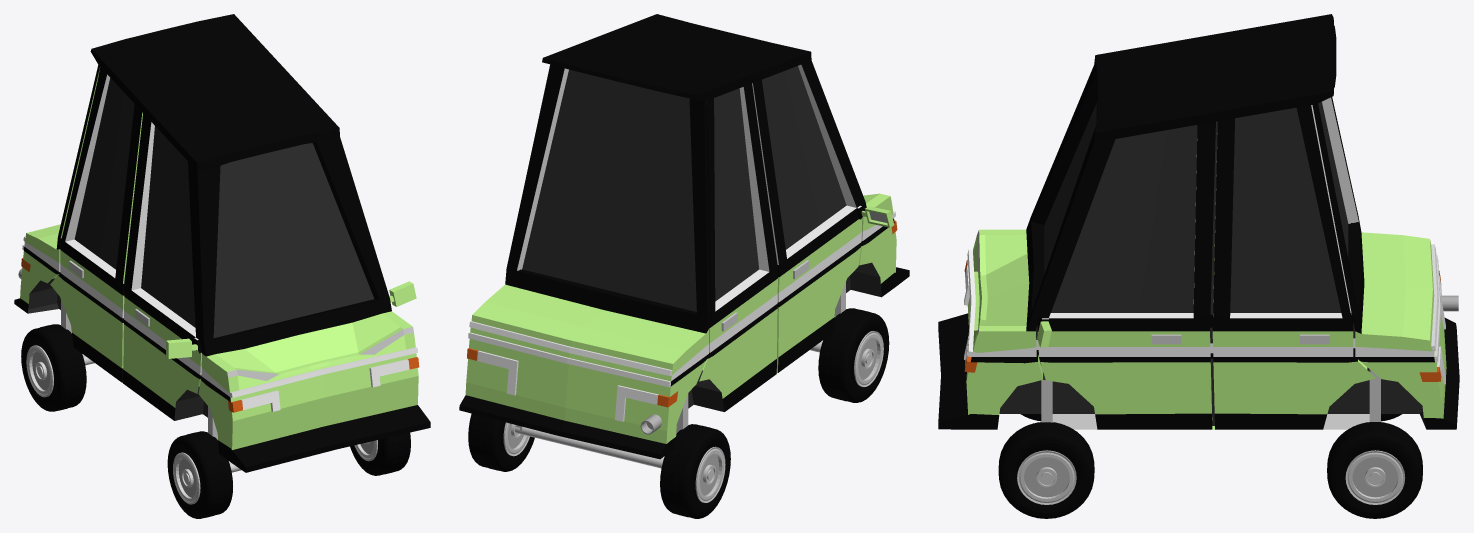
File: CR-CAR-11B.fbx
The picture shows the model from 3 angles, left to right: view 1: azimuth 30°, elevation 25°; view 2: azimuth 150°, elevation 25°; view 3: azimuth 270°, elevation 25°; orthographic projection. The views are drawn at different scales.
Visible parts, largest first — view 1: BODY, WHEEL.001, WHEEL.004, WHEEL.003; view 2: BODY, WHEEL.004, WHEEL.001, WHEEL.002; view 3: BODY, WHEEL.003, WHEEL.002, WHEEL.001, WHEEL.004.
Part boxes in pixels (x1,y1,x2,y2): BODY: (14,14,430,472); WHEEL.001: (167,406,241,518); WHEEL.004: (21,300,94,411); WHEEL.003: (350,432,410,475); BODY: (459,14,909,459); WHEEL.004: (515,394,730,518); WHEEL.001: (810,282,889,402); WHEEL.002: (468,413,534,471); BODY: (938,14,1459,429); WHEEL.003: (998,422,1094,518); WHEEL.002: (1327,422,1422,518); WHEEL.001: (1020,365,1369,429); WHEEL.004: (1369,369,1401,421).
Size of the model in its own units: 131 by 185 by 212.
